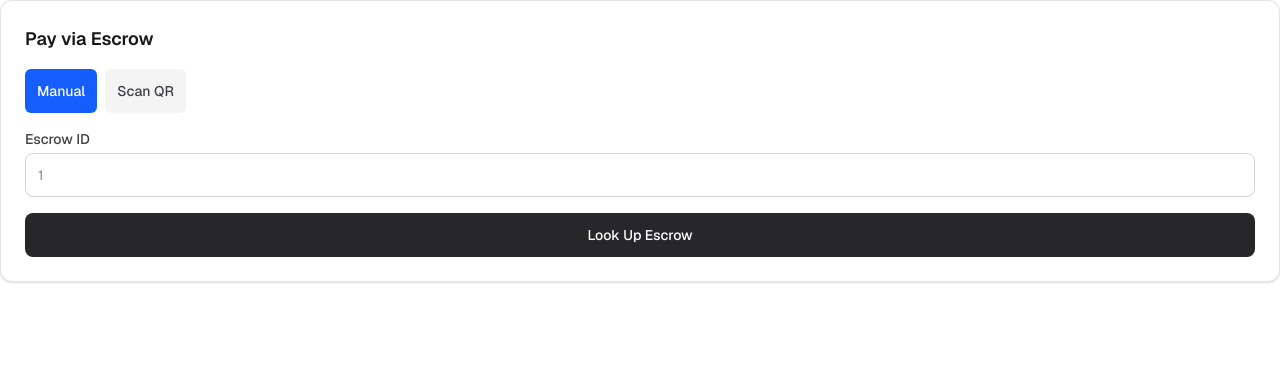
Scenario: BuyerPanel › shows an error banner when lookup fails
Type "5" into the number field labelled "Escrow ID".
click(640, 175); type("5")  # box [25, 153, 1255, 197]
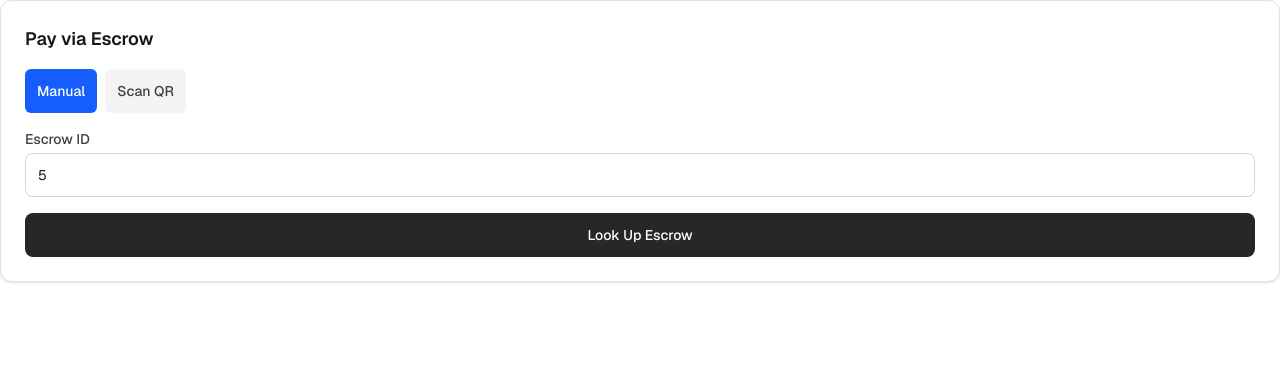
Click the button "Look Up Escrow".
click(640, 235)  # box [25, 213, 1255, 257]
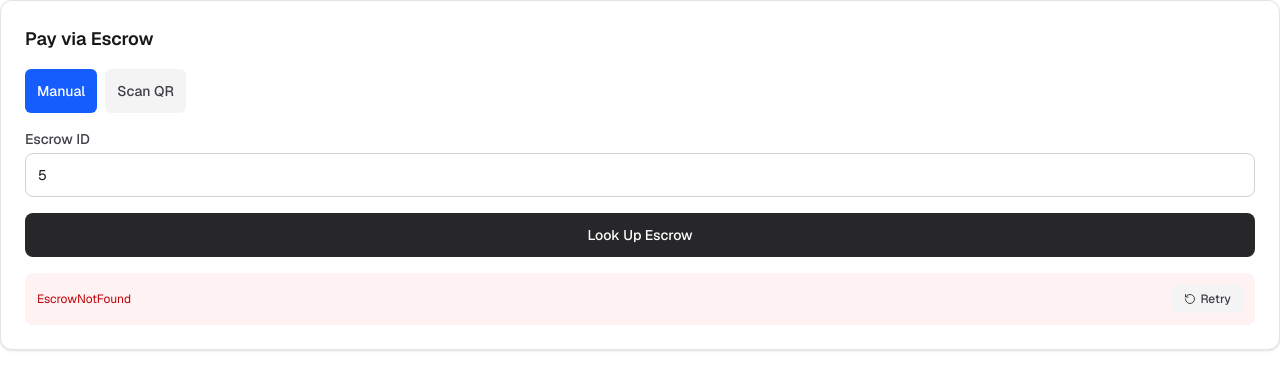
Check: the text "EscrowNotFound" is shown, box [37, 291, 131, 307]
